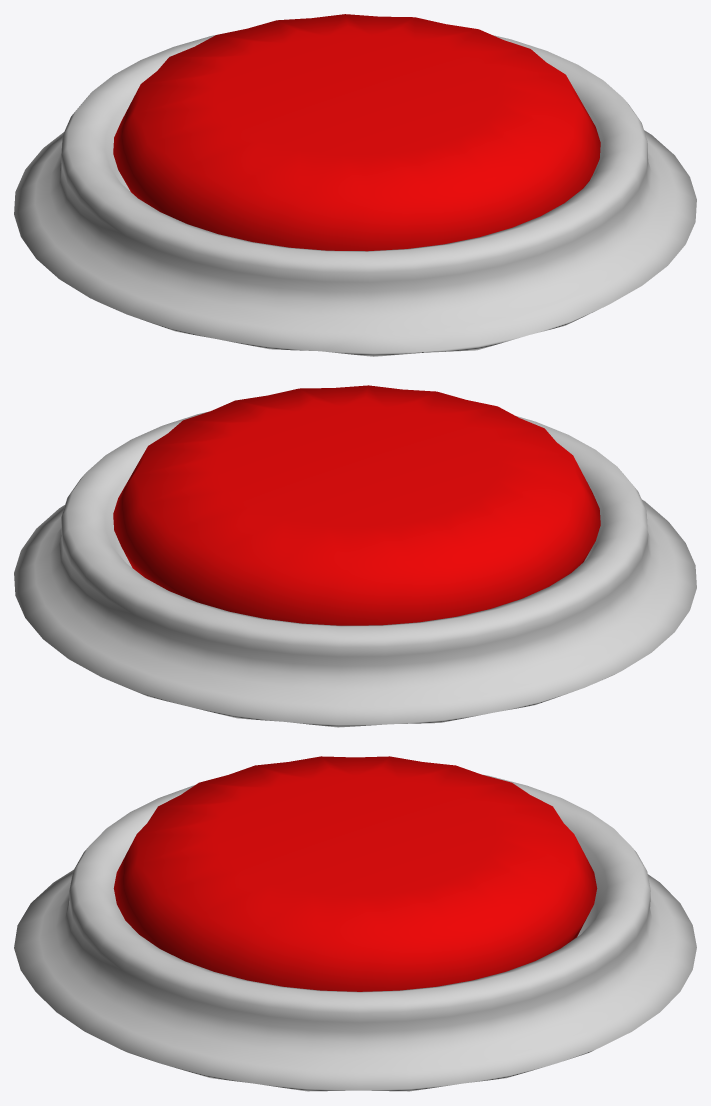
Rendered from Button.fbx.
The picture shows the model from 3 angles, top to bottom: view 1: azimuth 30°, elevation 25°; view 2: azimuth 150°, elevation 25°; view 3: azimuth 270°, elevation 25°; orthographic projection.
Visible parts, largest first — view 1: Button, SurroundingButton; view 2: Button, SurroundingButton; view 3: Button, SurroundingButton.
Part boxes in pixels (x1,y1,x2,y2): Button: (113,14,600,251); SurroundingButton: (14,35,696,356); Button: (113,385,600,625); SurroundingButton: (14,411,696,727); Button: (113,756,597,991); SurroundingButton: (14,774,696,1091).
Bounding box in the file's own units: 3.97 × 0.7995 × 4.01.
